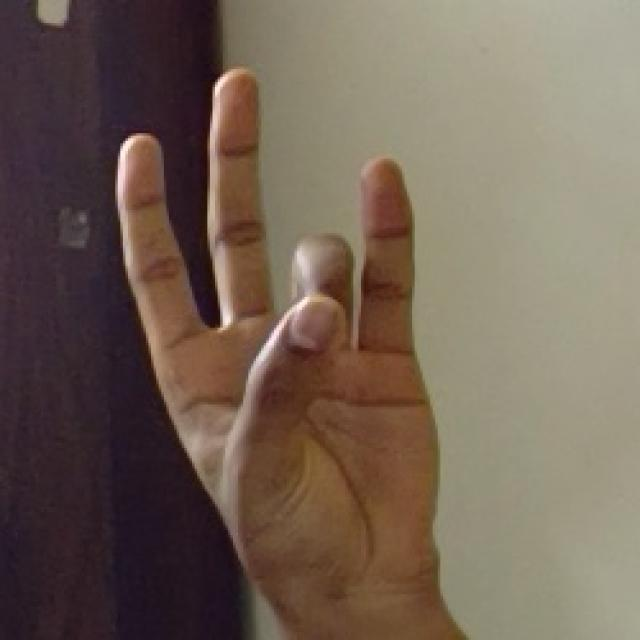Numeric-7: (116, 69, 455, 610)
